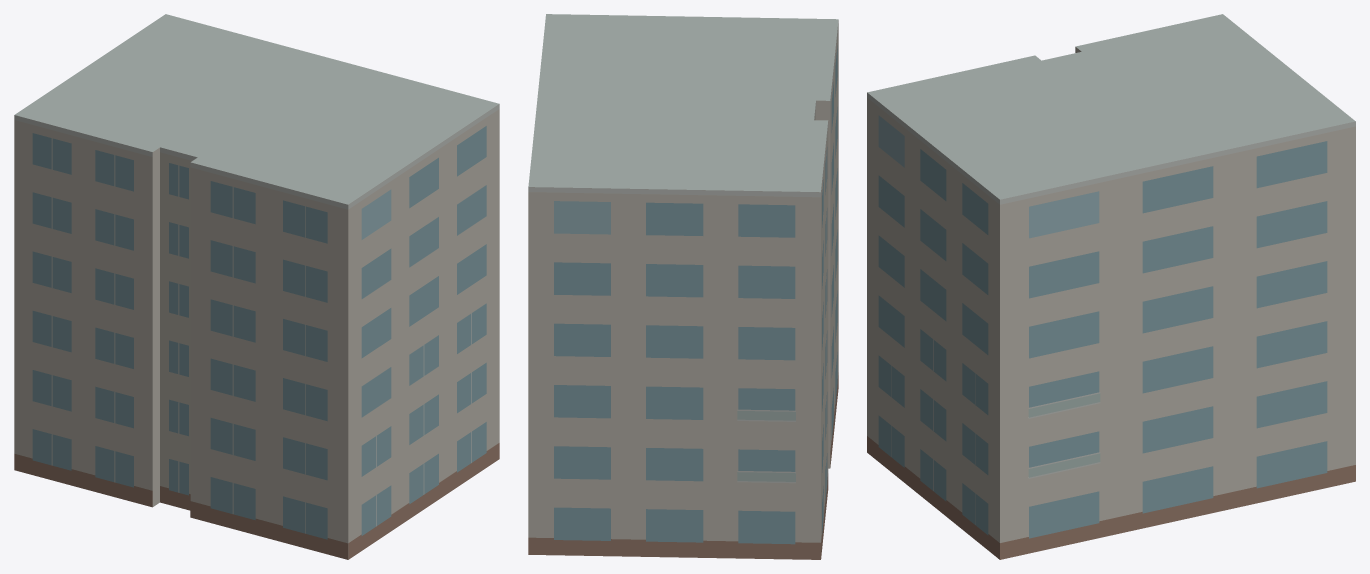
File: survey-upis-32747025.glb
3 views of the same model, side by side, from view 1: azimuth 30°, elevation 25°; view 2: azimuth 150°, elevation 25°; view 3: azimuth 270°, elevation 25° (orthographic). The views are drawn at different scales.
Visible parts, largest first — view 1: survey-upis-32747025.tmp; view 2: survey-upis-32747025.tmp; view 3: survey-upis-32747025.tmp.
Boxes of the visible parts, box(x1,y1,x2,y2) form: survey-upis-32747025.tmp: box(14, 14, 499, 559); survey-upis-32747025.tmp: box(528, 14, 838, 559); survey-upis-32747025.tmp: box(867, 14, 1355, 559).
Bounding box in the file's own units: 19.26 × 17.4 × 21.41.
